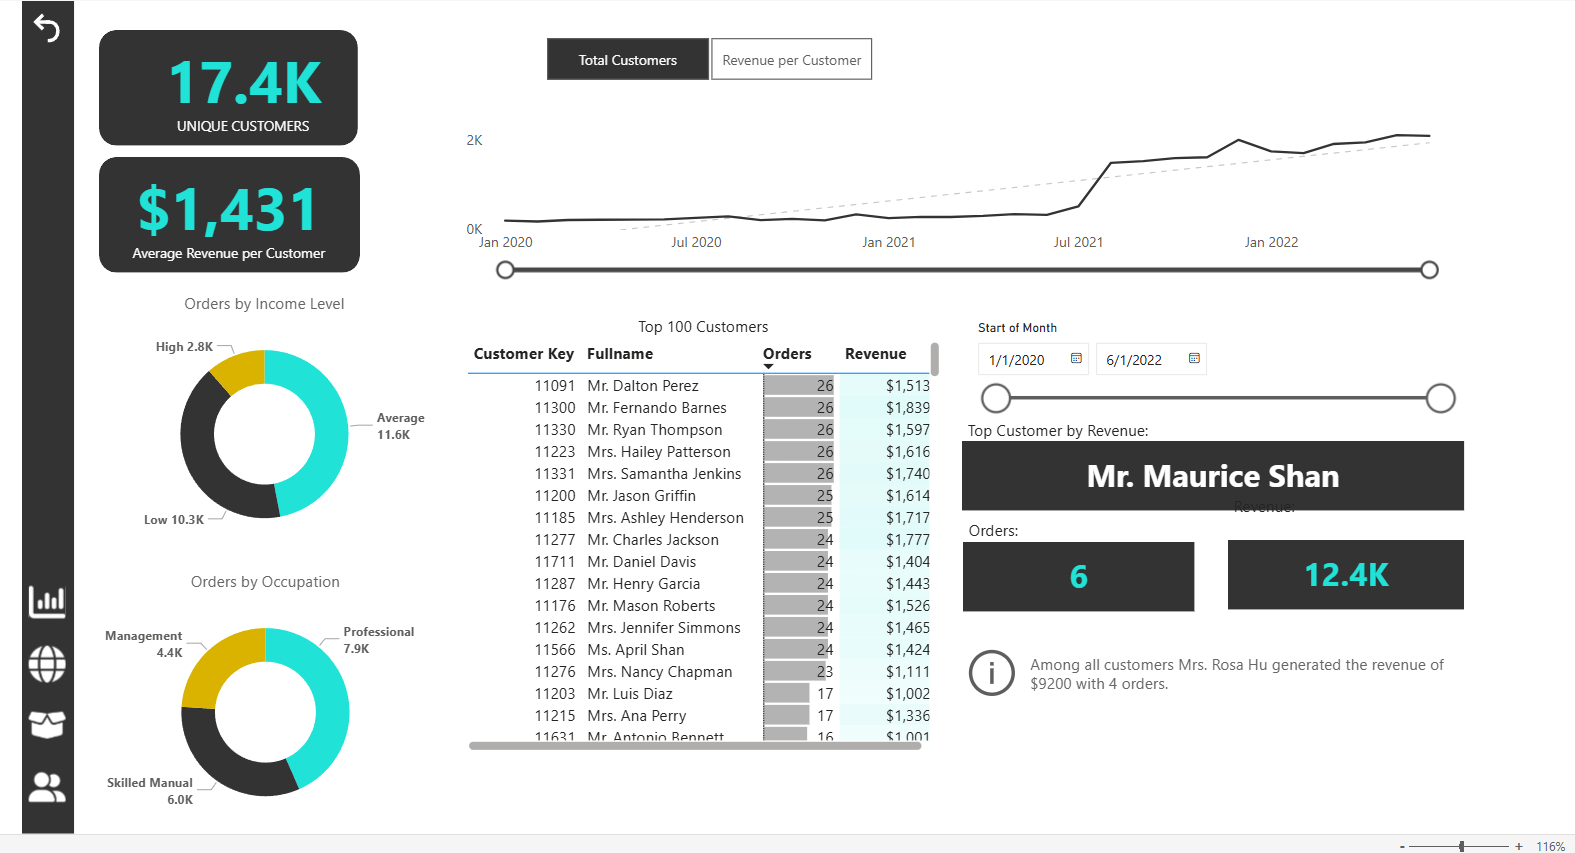

The page's visual inventory and layout, read from the dashboard file:
{"tool":"powerbi","page":{"name":"Customer Details","canvas":[1280,720],"ordinal":3},"visuals":[{"type":"actionButton","box":[1.8,499.5,58.8,40],"z":0,"group":"g1"},{"type":"shape","title":"Unique Customer Back","box":[66.2,25,223.8,100],"z":0},{"type":"actionButton","box":[1.8,606.1,58.8,40],"z":1000,"group":"g1"},{"type":"shape","title":"Average Revenue Back","box":[66.2,134.8,225.6,100],"z":1000},{"type":"card","title":"Average Revenue","fields":{"Values":["Measure Table.Average Revenue per Customer"]},"box":[66.2,109.2,224.4,151.1],"z":2000},{"type":"actionButton","box":[1.8,659.4,58.8,40],"z":2000,"group":"g1"},{"type":"card","title":"Unique Customers","fields":{"Values":["Measure Table.Total Customers"]},"box":[78.8,0,225,150],"z":3000},{"type":"actionButton","box":[1.8,552.8,58.8,40],"z":3000,"group":"g1"},{"type":"lineChart","title":"Total Customers","fields":{"Y":["Measure Table.Total Customers"],"Category":["Calendar Lookup.Year","Calendar Lookup.Start of Month","Calendar Lookup.Start of Week","Calendar Lookup.Date"]},"box":[378.8,67.2,866.9,175.5],"z":4000},{"type":"donutChart","title":"Orders by Income Level","fields":{"Category":["Customer Lookup.Income Level"],"Y":["Measure Table.Total Orders"]},"box":[66.2,252.5,286,227],"z":5000},{"type":"donutChart","title":"Orders  by Occupation","fields":{"Y":["Measure Table.Total Orders"],"Category":["Customer Lookup.Occupation"]},"box":[67.2,492.5,286,227],"z":6000},{"type":"tableEx","title":"Top 100 Customers","fields":{"Values":["Customer Lookup.CustomerKey","Customer Lookup.Fullname","Measure Table.Total Orders","Measure Table.Total Revenue"]},"box":[379.2,272.5,419,381],"z":7000},{"type":"card","fields":{"Values":["Customer Lookup.Full Name (Customer Detail)"]},"box":[812.6,380.6,434,60],"z":8000},{"type":"textbox","box":[812.6,356.6,226,34],"z":9000},{"type":"card","fields":{"Values":["Measure Table.Total Order (Customer Details)"]},"box":[813.6,467.6,200,60],"z":10000},{"type":"textbox","box":[813.6,443.6,226,34],"z":11000},{"type":"card","fields":{"Values":["Measure Table.Total Revenue (Customer Details)"]},"box":[1042.6,465.6,204,60],"z":12000},{"type":"textbox","box":[1042.6,422.9,226,34],"z":13000},{"type":"slicer","fields":{"Values":["Calendar Lookup.Start of Month.Variation.Date Hierarchy.Year"]},"box":[813.4,271.8,434,93.8],"z":14000},{"type":"shape","title":"Left Nav Background","box":[0,0,45.4,719.6],"z":15000},{"type":"actionButton","box":[812.2,554.8,433.7,51.7],"z":16000},{"type":"actionButton","box":[4,6,45.4,34.3],"z":17000},{"type":"group","id":"g1","title":"Navigation Icons","box":[1.8,499.5,58.8,199.8],"z":18000},{"type":"slicer","fields":{"Values":["Customer Metric Selection.Customer Metric Selection"]},"box":[428.1,25.1,331.3,50.1],"z":18501}]}

Visuals, with their boxes on the page's 1280x720 design canvas (x1, y1, x2, y2). These are canvas units, not pixel positions in the 1575x853 screenshot, which may show the page scaled, cropped or inside an application window:
actionButton: x1=2 y1=500 x2=61 y2=540
"Unique Customer Back" shape: x1=66 y1=25 x2=290 y2=125
actionButton: x1=2 y1=606 x2=61 y2=646
"Average Revenue Back" shape: x1=66 y1=135 x2=292 y2=235
"Average Revenue" card: x1=66 y1=109 x2=291 y2=260
actionButton: x1=2 y1=659 x2=61 y2=699
"Unique Customers" card: x1=79 y1=0 x2=304 y2=150
actionButton: x1=2 y1=553 x2=61 y2=593
"Total Customers" lineChart: x1=379 y1=67 x2=1246 y2=243
"Orders by Income Level" donutChart: x1=66 y1=252 x2=352 y2=480
"Orders  by Occupation" donutChart: x1=67 y1=492 x2=353 y2=720
"Top 100 Customers" tableEx: x1=379 y1=272 x2=798 y2=654
card - Customer Lookup.Full Name (Customer Detail): x1=813 y1=381 x2=1247 y2=441
textbox: x1=813 y1=357 x2=1039 y2=391
card - Measure Table.Total Order (Customer Details): x1=814 y1=468 x2=1014 y2=528
textbox: x1=814 y1=444 x2=1040 y2=478
card - Measure Table.Total Revenue (Customer Details): x1=1043 y1=466 x2=1247 y2=526
textbox: x1=1043 y1=423 x2=1269 y2=457
slicer - Calendar Lookup.Start of Month.Variation.Date Hierarchy.Year: x1=813 y1=272 x2=1247 y2=366
"Left Nav Background" shape: x1=0 y1=0 x2=45 y2=720
actionButton: x1=812 y1=555 x2=1246 y2=606
actionButton: x1=4 y1=6 x2=49 y2=40
"Navigation Icons" group: x1=2 y1=500 x2=61 y2=699
slicer - Customer Metric Selection.Customer Metric Selection: x1=428 y1=25 x2=759 y2=75
